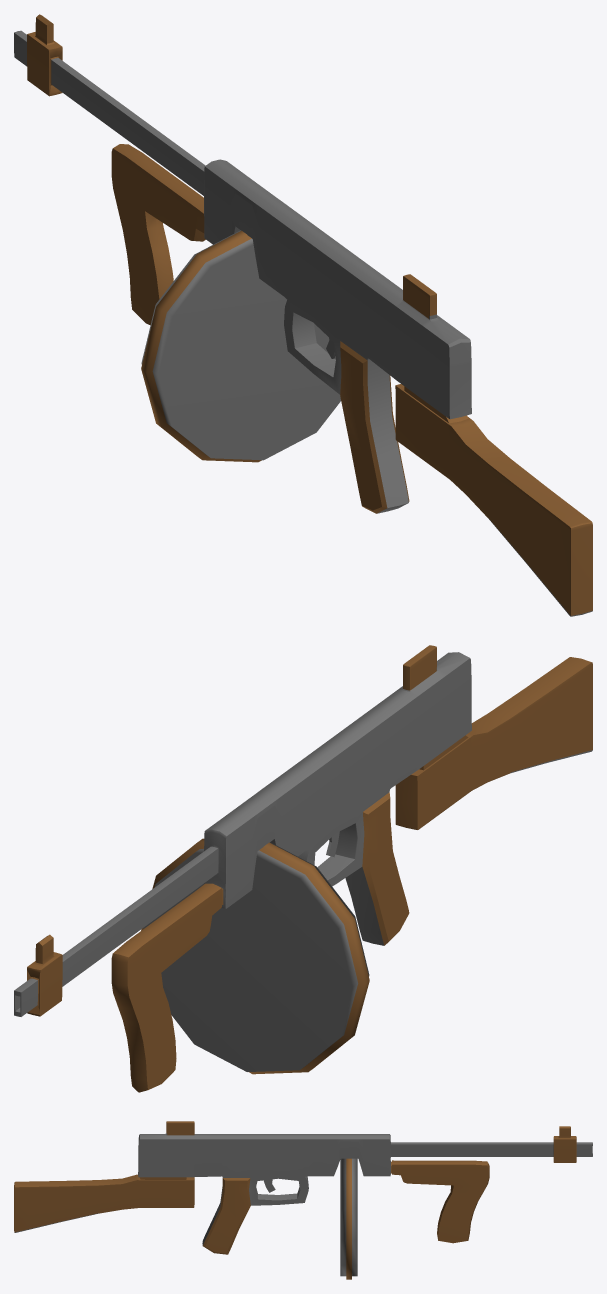
The model's file is netta_gun.fbx.
3 views of the same model, one above another, from view 1: azimuth 30°, elevation 25°; view 2: azimuth 150°, elevation 25°; view 3: azimuth 270°, elevation 25° (orthographic). The views are drawn at different scales.
Visible parts, largest first — view 1: Gun; view 2: Gun; view 3: Gun.
Boxes of the visible parts, x1,y1,x2,y2 form: Gun: (14,14,592,616); Gun: (14,645,592,1092); Gun: (14,1121,592,1279).
Size of the model in its own units: 0.4768 by 0.6052 by 2.09.
